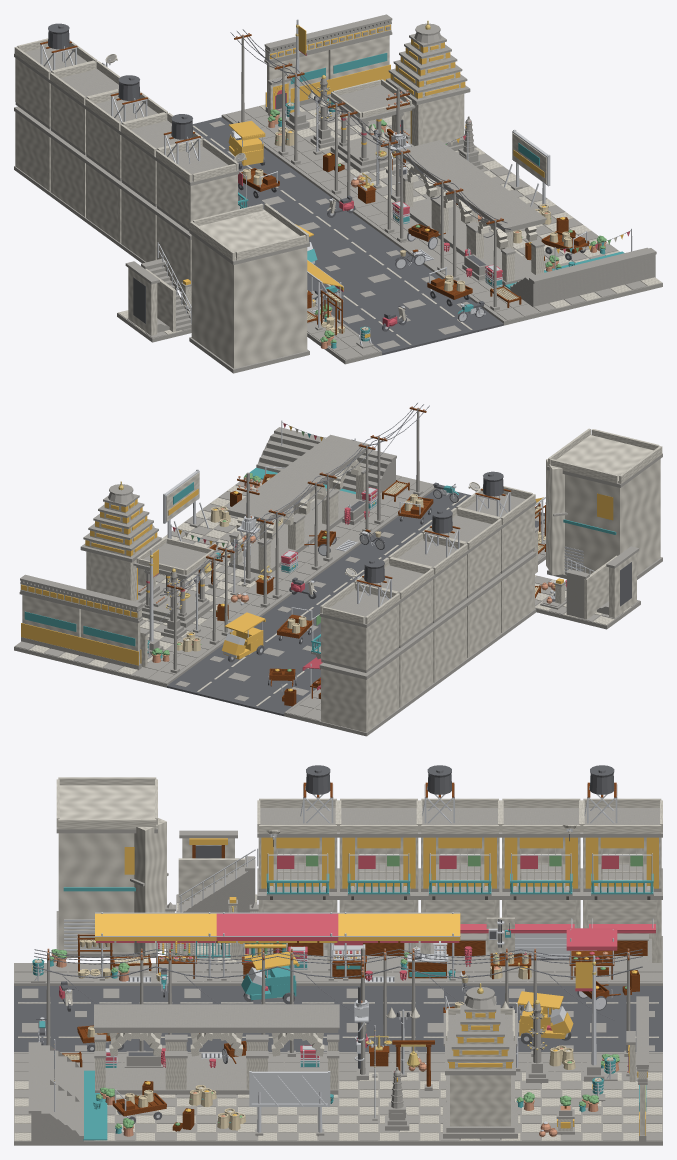
Rendered from starter-street.glb.
3 renders of one model, top to bottom at view 1: azimuth 30°, elevation 25°; view 2: azimuth 150°, elevation 25°; view 3: azimuth 270°, elevation 25°, orthographic. The views are drawn at different scales.
Parts seen in each view (by area): view 1: 069-corner-building-block/corner-building-block-plaster, 059-balcony-bay-with-jali-screen/balcony-bay-with-jali-scree (×2), 056-balcony-bay-with-jali-screen/balcony-bay-with-jali-scree (×2), 078-street-shrine-with-tower/street-shrine-with-tower-plaste, 057-balcony-bay-with-jali-screen/balcony-bay-with-jali-scree (×2), 055-balcony-bay-with-jali-screen/balcony-bay-with-jali-scree (×2), 058-balcony-bay-with-jali-screen/balcony-bay-with-jali-scree (×2), 079-pillared-porch/pillared-porch-stone, 078-street-shrine-with-tower/street-shrine-with-tower-stone, 096-arched-colonnade-bay/arched-colonnade-bay-stone, 094-arched-colonnade-bay/arched-colonnade-bay-stone, 097-step-tank-edge/step-tank-edge-stone (+56 smaller); view 2: 069-corner-building-block/corner-building-block-plaster, 055-balcony-bay-with-jali-screen/balcony-bay-with-jali-scree (×2), 050-shopfront-bay-open/shopfront-bay-open-plaster, 057-balcony-bay-with-jali-screen/balcony-bay-with-jali-scree (×2), 056-balcony-bay-with-jali-screen/balcony-bay-with-jali-scree (×2), 078-street-shrine-with-tower/street-shrine-with-tower-plaste, 059-balcony-bay-with-jali-screen/balcony-bay-with-jali-scree (×2), 058-balcony-bay-with-jali-screen/balcony-bay-with-jali-scree (×2), 079-pillared-porch/pillared-porch-stone, 078-street-shrine-with-tower/street-shrine-with-tower-stone, 094-arched-colonnade-bay/arched-colonnade-bay-stone, 095-arched-colonnade-bay/arched-colonnade-bay-stone (+60 smaller); view 3: 069-corner-building-block/corner-building-block-plaster, 058-balcony-bay-with-jali-screen/balcony-bay-with-jali-scree (×4), 056-balcony-bay-with-jali-screen/balcony-bay-with-jali-scree (×4), 059-balcony-bay-with-jali-screen/balcony-bay-with-jali-scree (×4), 055-balcony-bay-with-jali-screen/balcony-bay-with-jali-scree (×4), 057-balcony-bay-with-jali-screen/balcony-bay-with-jali-scree (×4), 078-street-shrine-with-tower/street-shrine-with-tower-stone, 078-street-shrine-with-tower/street-shrine-with-tower-plaste, 095-arched-colonnade-bay/arched-colonnade-bay-stone, 096-arched-colonnade-bay/arched-colonnade-bay-stone, 110-awning-run-on-poles-crimson/awning-run-on-poles-crimson- (×2), 109-awning-run-on-poles/awning-run-on-poles-saffron (+96 smaller).
Part boxes in pixels (x1=…): 069-corner-building-block/corner-building-block-plaster: x1=190, y1=203, x2=308, y2=368; 059-balcony-bay-with-jali-screen/balcony-bay-with-jali-scree (×2): x1=155, y1=138, x2=242, y2=231; 056-balcony-bay-with-jali-screen/balcony-bay-with-jali-scree (×2): x1=49, y1=61, x2=120, y2=155; 078-street-shrine-with-tower/street-shrine-with-tower-plaste: x1=390, y1=41, x2=465, y2=146; 057-balcony-bay-with-jali-screen/balcony-bay-with-jali-scree (×2): x1=84, y1=90, x2=167, y2=181; 055-balcony-bay-with-jali-screen/balcony-bay-with-jali-scree (×2): x1=14, y1=38, x2=97, y2=129; 058-balcony-bay-with-jali-screen/balcony-bay-with-jali-scree (×2): x1=120, y1=112, x2=203, y2=206; 079-pillared-porch/pillared-porch-stone: x1=327, y1=85, x2=415, y2=172; 078-street-shrine-with-tower/street-shrine-with-tower-stone: x1=384, y1=23, x2=470, y2=150; 096-arched-colonnade-bay/arched-colonnade-bay-stone: x1=468, y1=192, x2=546, y2=286; 094-arched-colonnade-bay/arched-colonnade-bay-stone: x1=398, y1=140, x2=475, y2=229; 097-step-tank-edge/step-tank-edge-stone: x1=510, y1=262, x2=595, y2=307; 069-corner-building-block/corner-building-block-plaster: x1=546, y1=428, x2=662, y2=575; 055-balcony-bay-with-jali-screen/balcony-bay-with-jali-scree (×2): x1=311, y1=582, x2=400, y2=672; 050-shopfront-bay-open/shopfront-bay-open-plaster: x1=321, y1=656, x2=399, y2=732; 057-balcony-bay-with-jali-screen/balcony-bay-with-jali-scree (×2): x1=388, y1=532, x2=468, y2=623; 056-balcony-bay-with-jali-screen/balcony-bay-with-jali-scree (×2): x1=354, y1=557, x2=434, y2=647; 078-street-shrine-with-tower/street-shrine-with-tower-plaste: x1=85, y1=501, x2=156, y2=601; 059-balcony-bay-with-jali-screen/balcony-bay-with-jali-scree (×2): x1=456, y1=486, x2=536, y2=573; 058-balcony-bay-with-jali-screen/balcony-bay-with-jali-scree (×2): x1=422, y1=508, x2=502, y2=598; 079-pillared-porch/pillared-porch-stone: x1=133, y1=541, x2=217, y2=627; 078-street-shrine-with-tower/street-shrine-with-tower-stone: x1=80, y1=484, x2=163, y2=606; 094-arched-colonnade-bay/arched-colonnade-bay-stone: x1=227, y1=484, x2=302, y2=575; 095-arched-colonnade-bay/arched-colonnade-bay-stone: x1=262, y1=459, x2=336, y2=550; 069-corner-building-block/corner-building-block-plaster: x1=56, y1=777, x2=166, y2=956; 058-balcony-bay-with-jali-screen/balcony-bay-with-jali-scree (×4): x1=338, y1=798, x2=419, y2=899; 056-balcony-bay-with-jali-screen/balcony-bay-with-jali-scree (×4): x1=500, y1=798, x2=581, y2=899; 059-balcony-bay-with-jali-screen/balcony-bay-with-jali-scree (×4): x1=257, y1=798, x2=338, y2=899; 055-balcony-bay-with-jali-screen/balcony-bay-with-jali-scree (×4): x1=582, y1=798, x2=662, y2=899; 057-balcony-bay-with-jali-screen/balcony-bay-with-jali-scree (×4): x1=419, y1=798, x2=500, y2=899; 078-street-shrine-with-tower/street-shrine-with-tower-stone: x1=443, y1=987, x2=517, y2=1139; 078-street-shrine-with-tower/street-shrine-with-tower-plaste: x1=449, y1=1011, x2=511, y2=1126; 095-arched-colonnade-bay/arched-colonnade-bay-stone: x1=175, y1=1004, x2=258, y2=1094; 096-arched-colonnade-bay/arched-colonnade-bay-stone: x1=94, y1=1004, x2=176, y2=1094; 110-awning-run-on-poles-crimson/awning-run-on-poles-crimson- (×2): x1=216, y1=912, x2=338, y2=978; 109-awning-run-on-poles/awning-run-on-poles-saffron: x1=338, y1=913, x2=460, y2=940.
Bounding box in the file's own units: 28.85 × 9.89 × 32.
12 materials, 3 textured.
